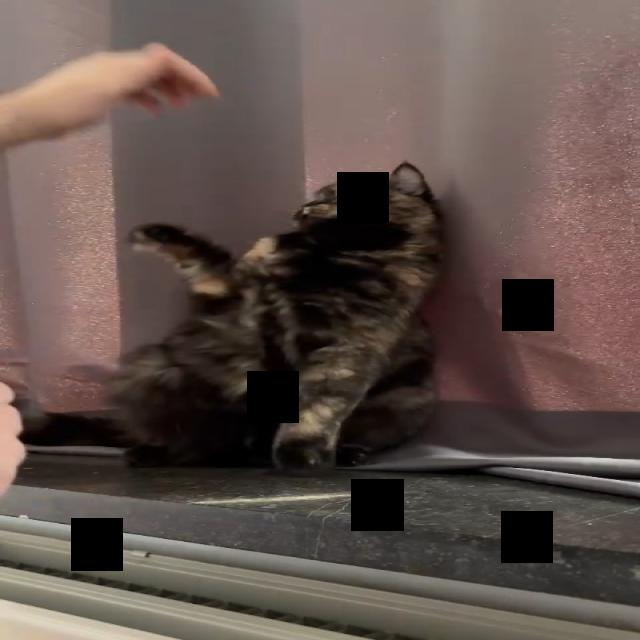authorized: (102, 160, 446, 472)
